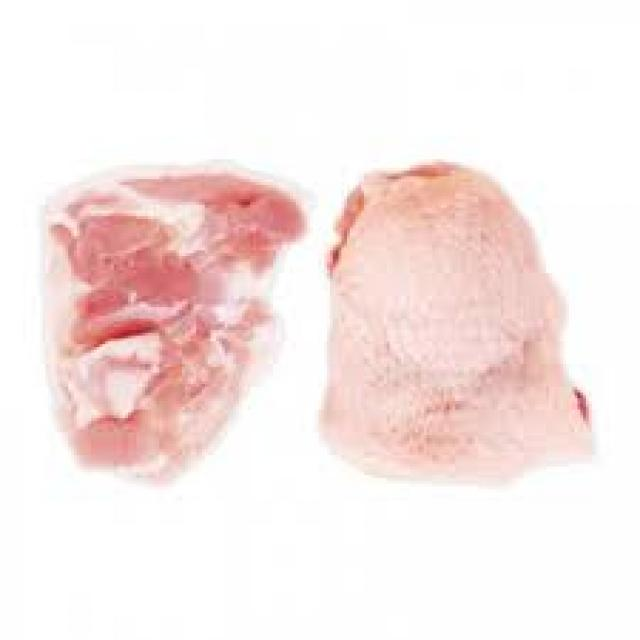chicken: (324, 165, 594, 482), (46, 168, 307, 479)
